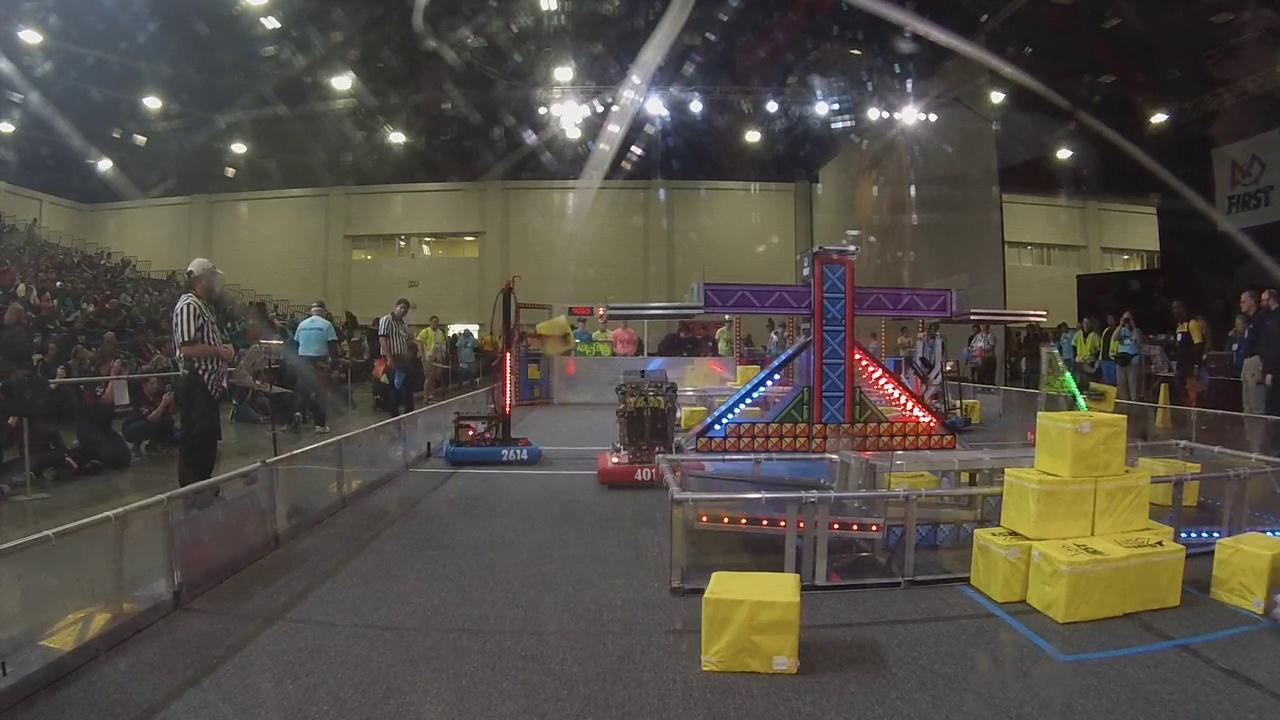robot: (442, 280, 556, 465), (595, 366, 706, 491)
